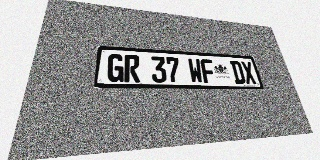3: (151, 56, 167, 83)
7: (165, 57, 181, 83)
D: (230, 61, 246, 84)
F: (200, 59, 216, 83)
G: (107, 54, 124, 82)
R: (124, 55, 140, 82)
W: (187, 58, 204, 83)
X: (240, 61, 257, 84)
